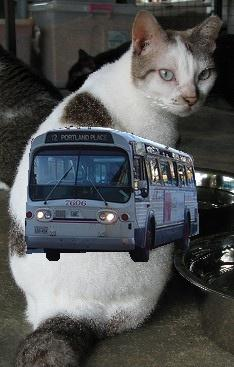tampered: (26, 127, 199, 262)
